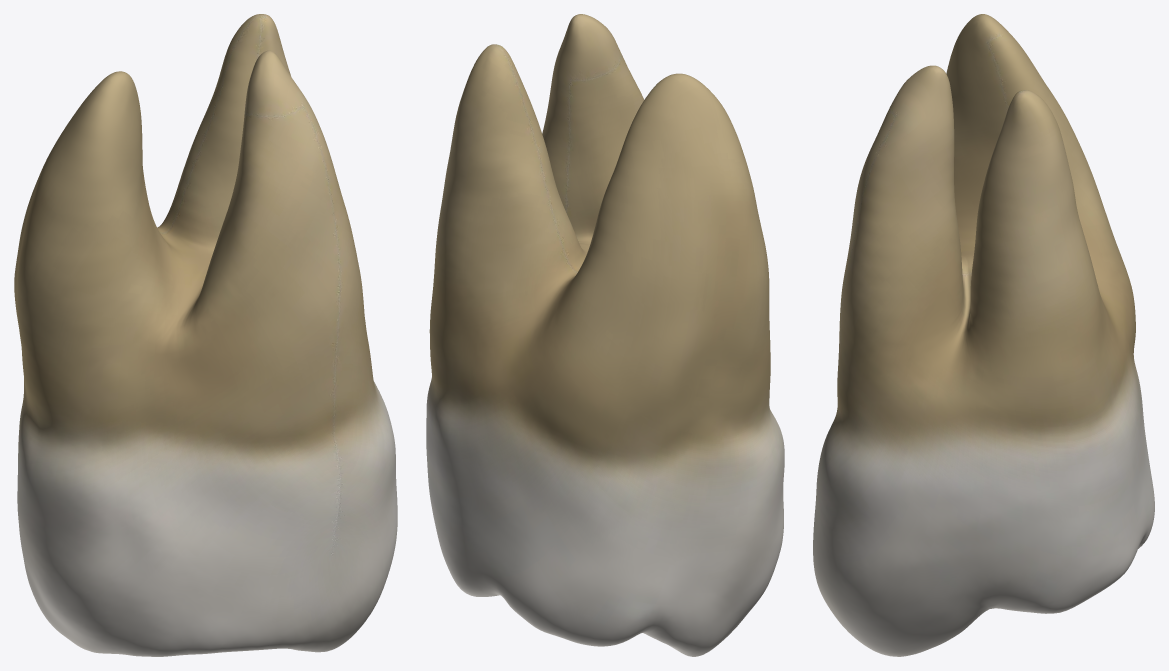
3 renders of one model, left to right at view 1: azimuth 30°, elevation 25°; view 2: azimuth 150°, elevation 25°; view 3: azimuth 270°, elevation 25°, orthographic. The views are drawn at different scales.
Visible parts, largest first — view 1: diente-27; view 2: diente-27; view 3: diente-27.
Part boxes in pixels (x1,y1,x2,y2): diente-27: (14,14,397,656); diente-27: (426,14,784,656); diente-27: (813,14,1154,656).
Size of the model in its own units: 0.0112 by 0.019 by 0.0103.
Materials: 1 (1 with a texture image).
